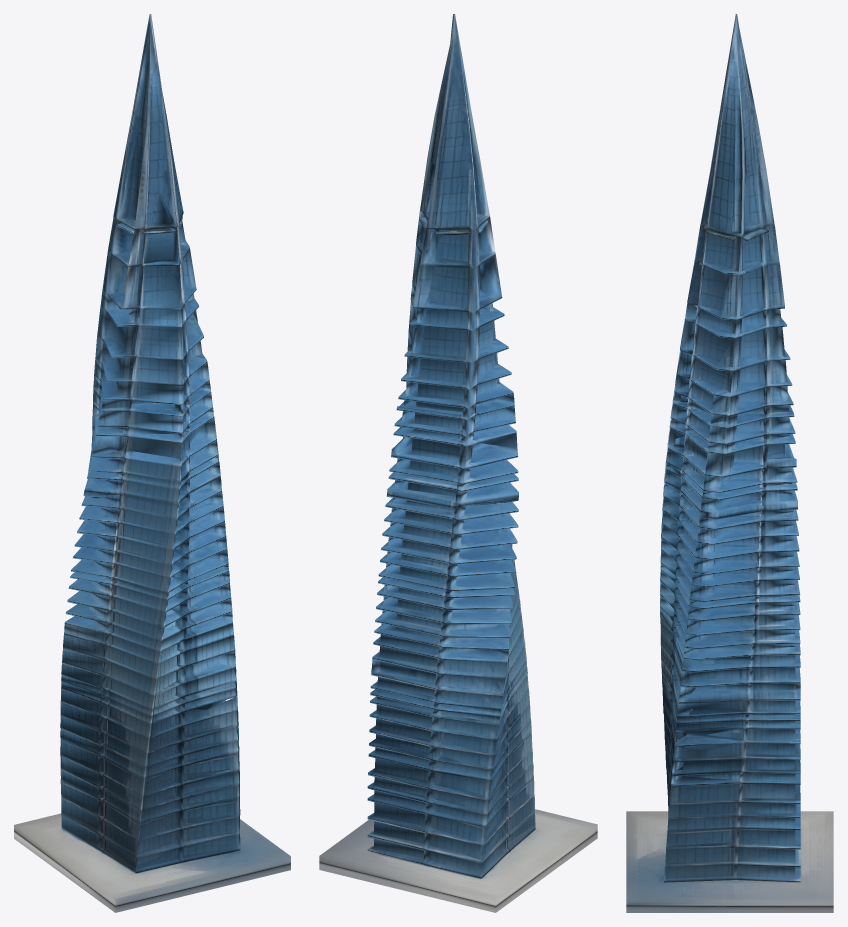
File: spb_l6.glb
3 views of the same model, side by side, from view 1: azimuth 30°, elevation 25°; view 2: azimuth 150°, elevation 25°; view 3: azimuth 270°, elevation 25° (orthographic). The views are drawn at different scales.
Parts seen in each view (by area): view 1: tripo_node_7a8f91a2; view 2: tripo_node_7a8f91a2; view 3: tripo_node_7a8f91a2.
Part boxes in pixels (x1,y1,x2,y2): tripo_node_7a8f91a2: (14,14,290,912); tripo_node_7a8f91a2: (319,14,597,912); tripo_node_7a8f91a2: (626,14,833,912).
Size of the model in its own units: 0.2192 by 0.9995 by 0.2192.
1 material, 1 textured.
